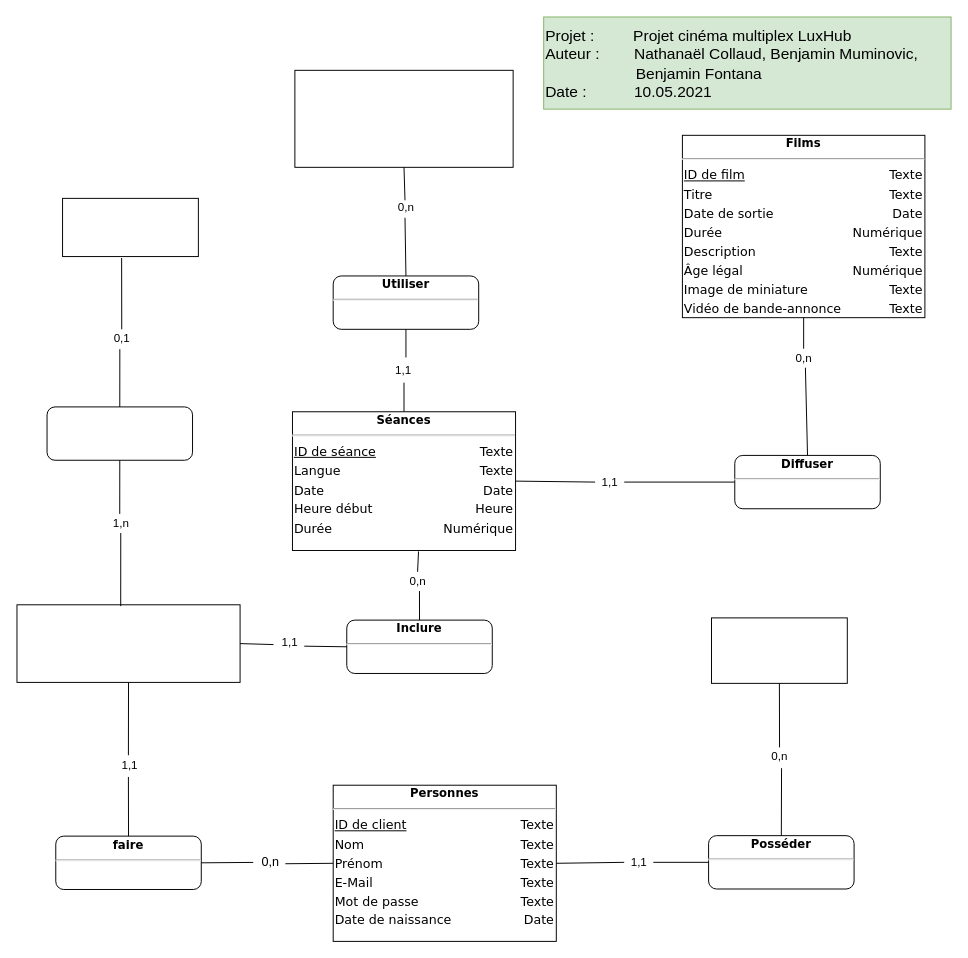
This 968x958 diagram has some shape labels left out. Here are the shapes that lost their labels. From the top down, the centre of each, then its label:
At [403,118]: "Salles Nom Texte Lignes Numérique Colonnes Numérique".
At [130,227]: "Siège Nom Texte".
At [119,433]: "Réserver".
At [128,643]: "Réservations ID de réservation Texte Nombre de billets Numérique".
At [779,650]: "Type de compte Nom Texte".
